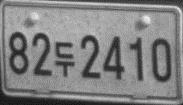0: (151, 36, 172, 82)
1: (128, 35, 143, 82)
2: (31, 31, 53, 76), (80, 34, 102, 79)
4: (103, 35, 126, 81)
8: (8, 31, 30, 74)
두: (54, 40, 76, 77)
